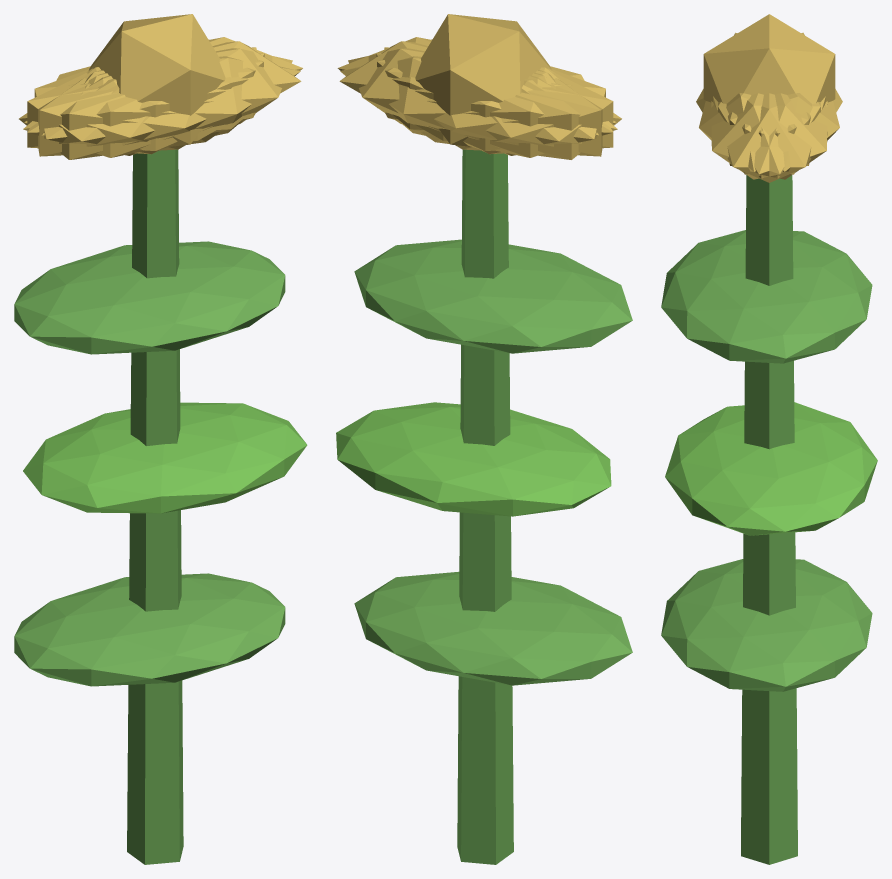
File: ixora-finlaysoniana.glb
3 views of the same model, side by side, from view 1: azimuth 30°, elevation 25°; view 2: azimuth 150°, elevation 25°; view 3: azimuth 270°, elevation 25° (orthographic).
Visible parts, largest first — view 1: stem, leaf2, leaf1, leaf0, center, petal1, petal6, petal2, petal5, petal7, petal0, petal4 (+2 smaller); view 2: stem, leaf1, leaf2, leaf0, center, petal8, petal3, petal7, petal4, petal2, petal0, petal5 (+2 smaller); view 3: stem, leaf1, leaf2, leaf0, center, petal0, petal4, petal5, petal1, petal8.
Part boxes in pixels (x1,y1,x2,y2): stem: (127,149,183,864); leaf2: (14,241,285,354); leaf1: (23,402,307,513); leaf0: (14,573,285,686); center: (88,14,225,146); petal1: (23,56,300,157); petal6: (19,68,219,159); petal2: (38,47,256,156); petal5: (42,48,292,150); petal7: (27,53,264,154); petal0: (88,41,301,141); petal4: (24,37,302,132); stem: (457,149,513,864); leaf1: (336,402,611,516); leaf2: (354,239,632,353); leaf0: (354,571,632,685); center: (415,14,552,146); petal8: (340,56,617,157); petal3: (421,68,621,159); petal7: (384,47,602,156); petal4: (348,48,598,150); petal2: (376,53,613,154); petal0: (339,41,552,141); petal5: (337,37,616,132); stem: (741,175,797,864); leaf1: (665,402,877,535); leaf2: (661,230,872,363); leaf0: (661,559,872,691); center: (703,14,835,103); petal0: (713,93,825,182); petal4: (718,93,827,179); petal5: (711,93,820,179); petal1: (699,93,810,171); petal8: (728,93,839,171).
Bounding box in the file's own units: 0.1484 × 0.4218 × 0.1009.
